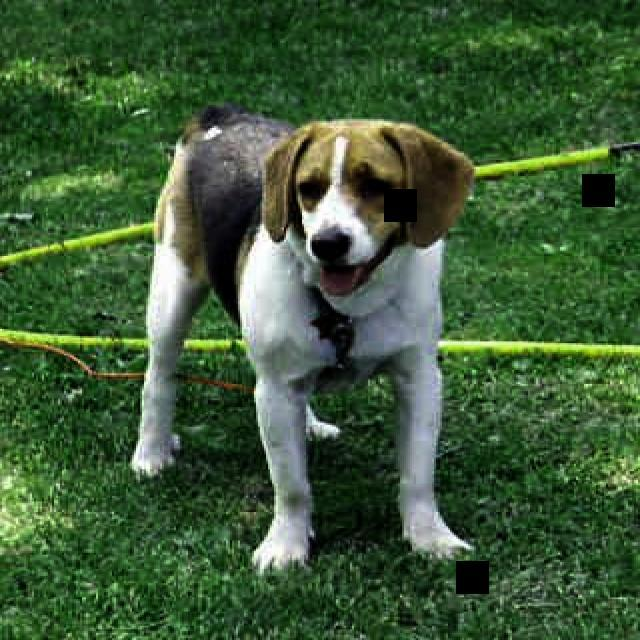adult_dog: (127, 107, 480, 575)
